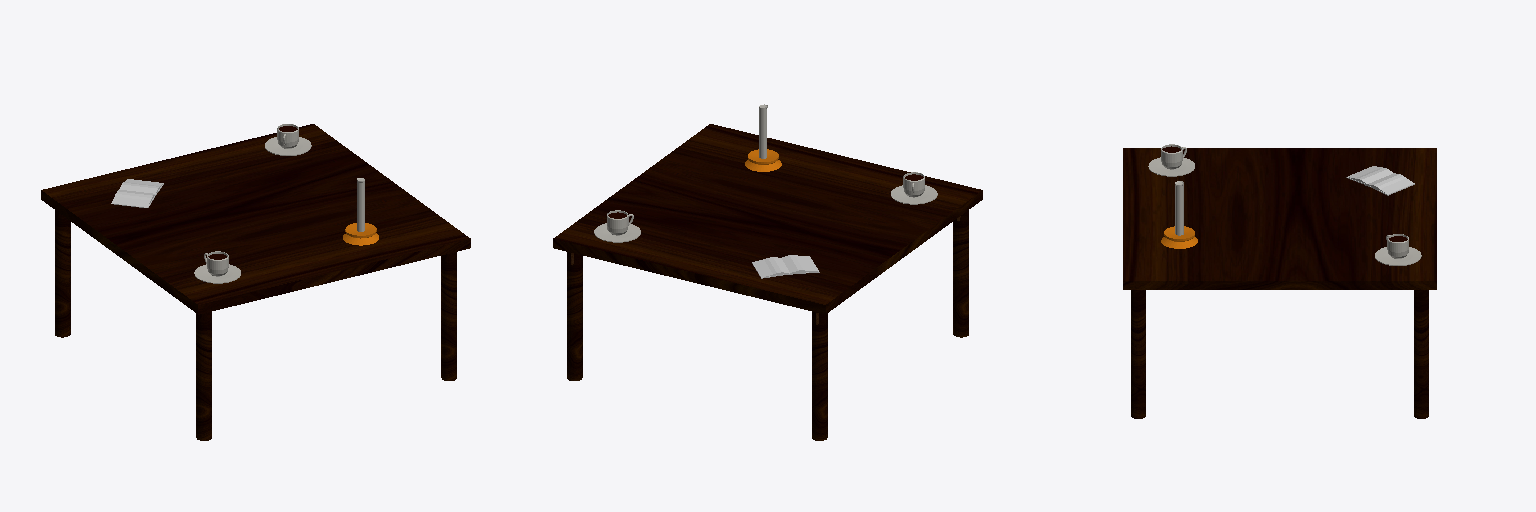
3 renders of one model, left to right at view 1: azimuth 30°, elevation 25°; view 2: azimuth 150°, elevation 25°; view 3: azimuth 270°, elevation 25°, orthographic.
Visible parts, largest first — view 1: Table_Cylinder.003, Coffe1_Cylinder.007, Book_Pages_Cube.004, Coffe2_Cylinder.006, Candle_Post_Cylinder.004; view 2: Table_Cylinder.003, Book_Pages_Cube.004, Coffe2_Cylinder.006, Coffe1_Cylinder.007, Candle_Post_Cylinder.004; view 3: Table_Cylinder.003, Book_Pages_Cube.004, Coffe1_Cylinder.007, Coffe2_Cylinder.006, Candle_Post_Cylinder.004.
Part boxes in pixels (x1,y1,x2,y2): Table_Cylinder.003: (41,124,470,440); Coffe1_Cylinder.007: (194,251,240,283); Book_Pages_Cube.004: (112,179,162,206); Coffe2_Cylinder.006: (265,124,311,155); Candle_Post_Cylinder.004: (343,223,378,245); Table_Cylinder.003: (553,124,982,440); Book_Pages_Cube.004: (753,255,817,276); Coffe2_Cylinder.006: (594,210,640,242); Coffe1_Cylinder.007: (891,172,937,204); Candle_Post_Cylinder.004: (745,149,781,171); Table_Cylinder.003: (1123,148,1436,418); Book_Pages_Cube.004: (1348,166,1413,193); Coffe1_Cylinder.007: (1148,144,1194,176); Coffe2_Cylinder.006: (1375,234,1421,265); Candle_Post_Cylinder.004: (1161,226,1197,248).
Bounding box in the file's own units: 40 × 28.1 × 40.
6 materials, 1 textured.